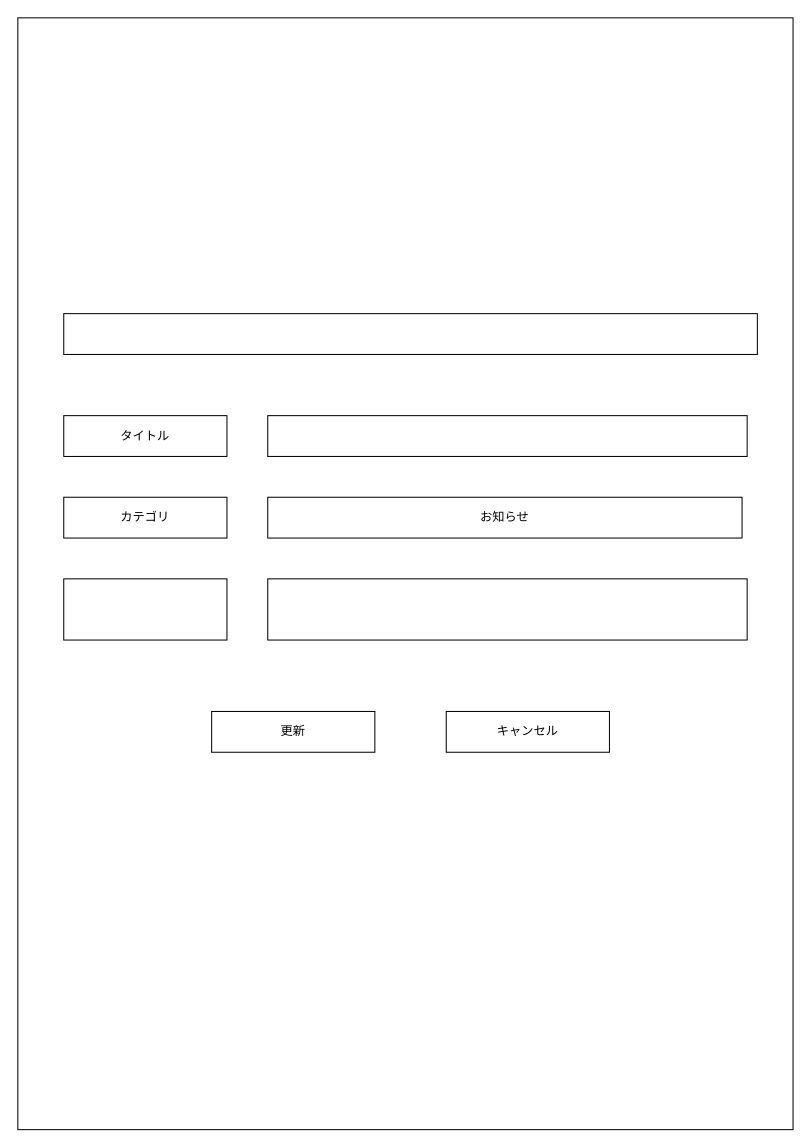
The diagram is 811 pixels wide and 1148 high, and some of its shapes have lost their labels. The shapes that lost their labels are listed below. From the top down, each one's box as (x1, y1, x2, y2) in pixels, then its label:
(63, 313, 757, 354): 投稿編集
(63, 578, 227, 640): 本文
